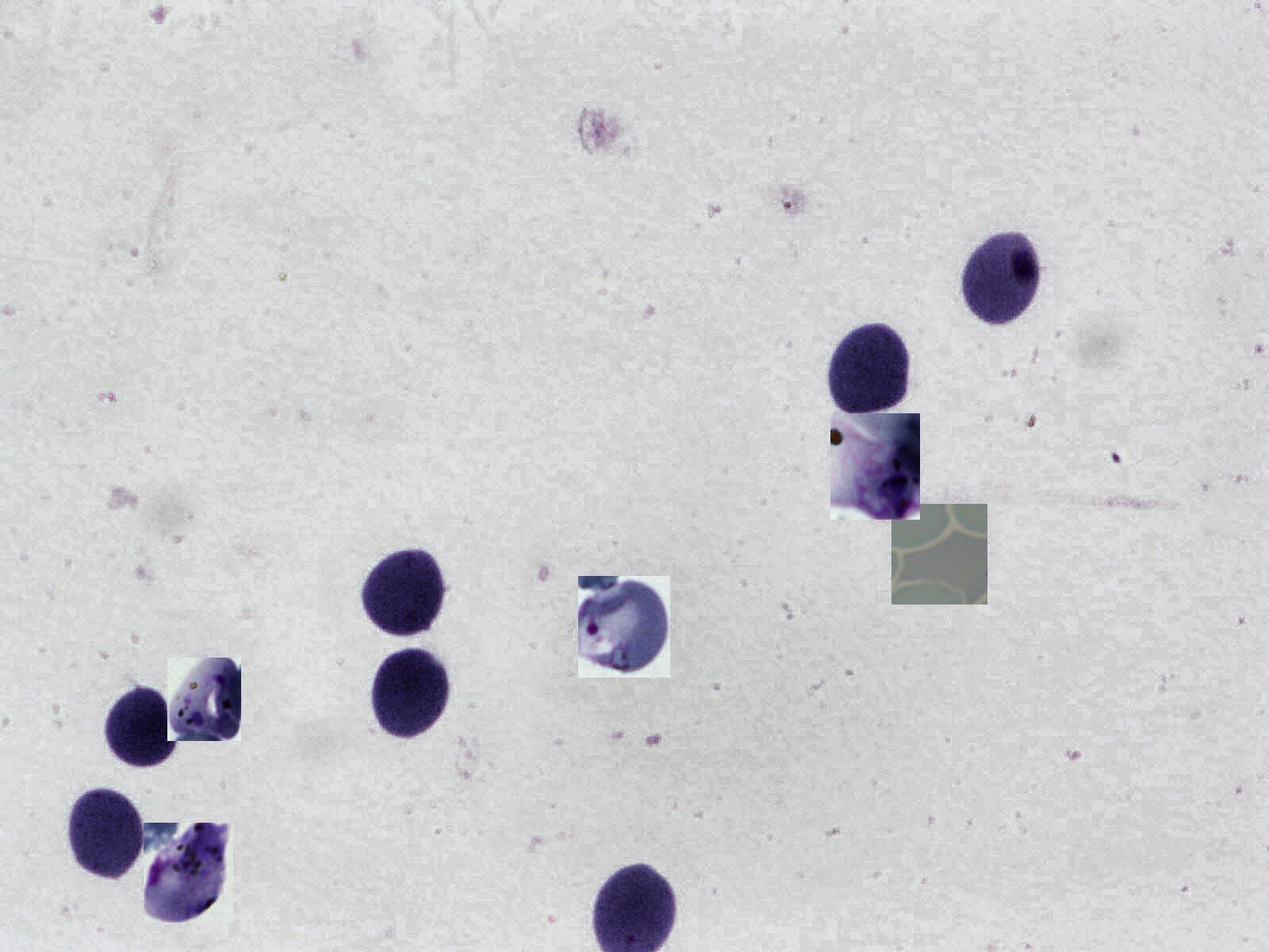Infected: (891, 504, 987, 605), (830, 413, 920, 520), (578, 576, 670, 678), (144, 823, 233, 923), (167, 658, 241, 741)
Uninfected: (826, 318, 914, 420), (960, 226, 1045, 331), (65, 783, 146, 885), (369, 644, 451, 743), (360, 547, 447, 636), (102, 685, 179, 773)
